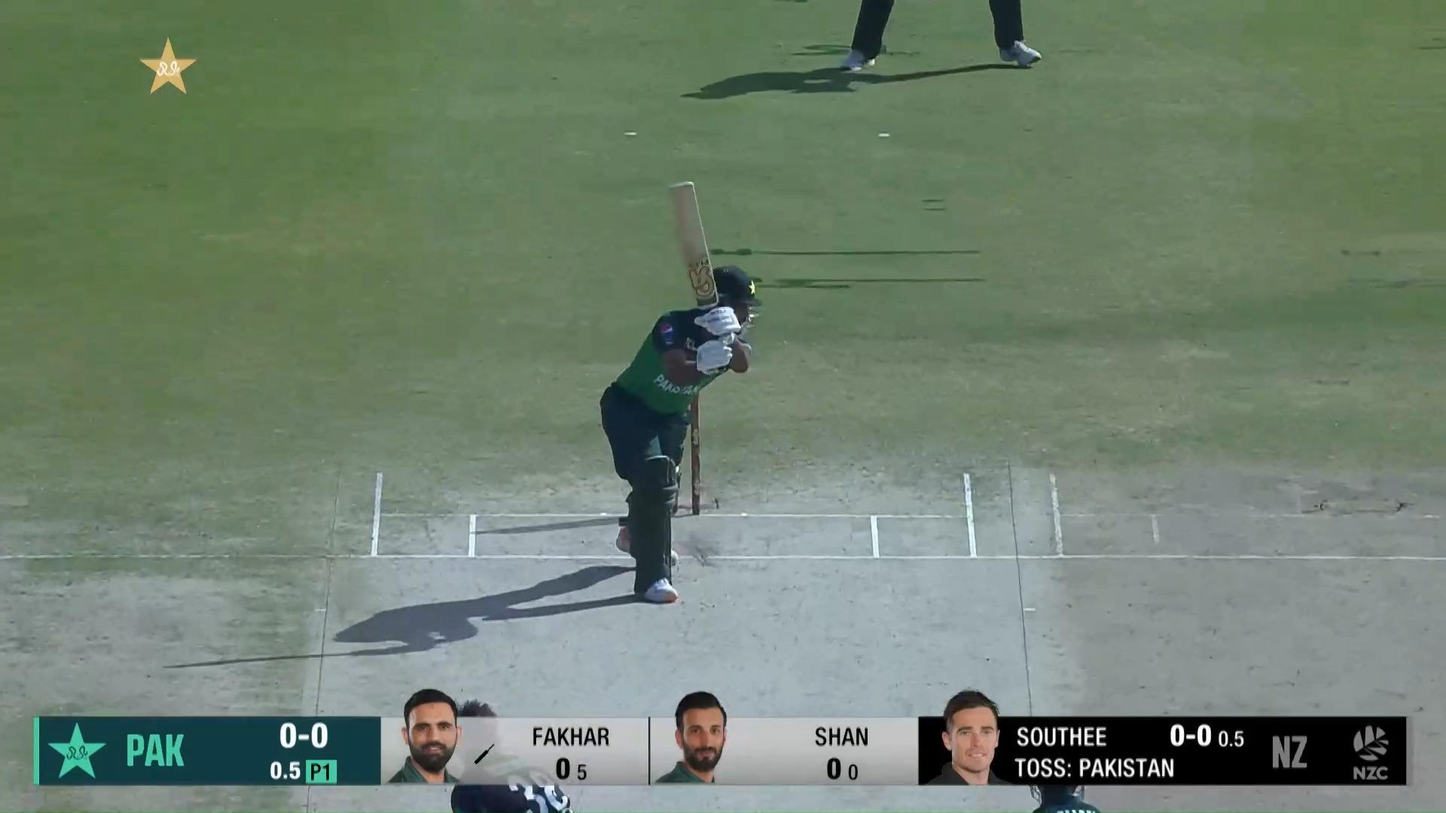BM 1: (597, 178, 764, 605)
BO: (452, 697, 572, 813)
